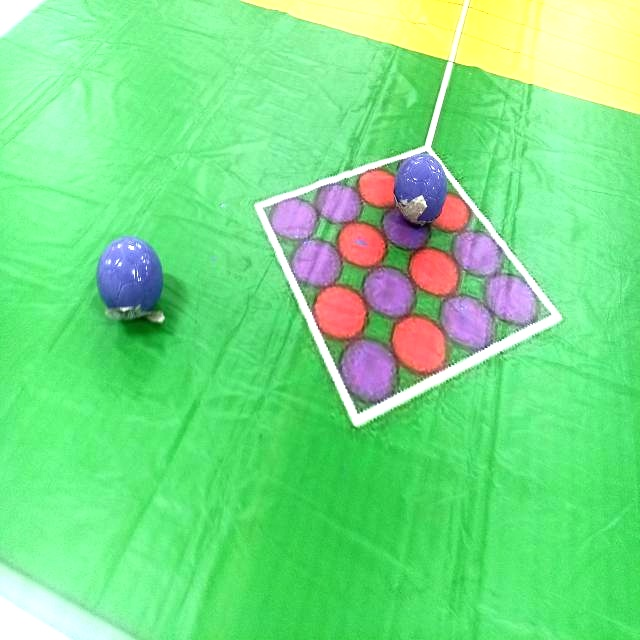purple_ball: (96, 237, 163, 318), (396, 155, 448, 222)
